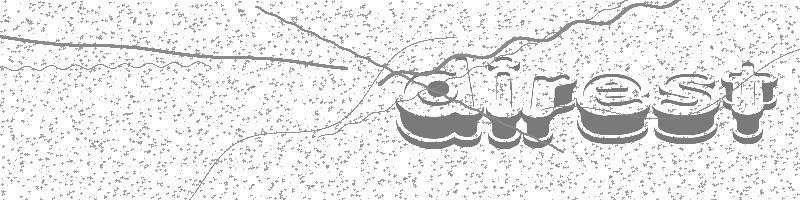d: (387, 52, 483, 152)
e: (578, 69, 653, 152)
i: (480, 52, 524, 152)
r: (523, 72, 581, 149)
s: (652, 71, 727, 150)
t: (719, 57, 784, 150)
